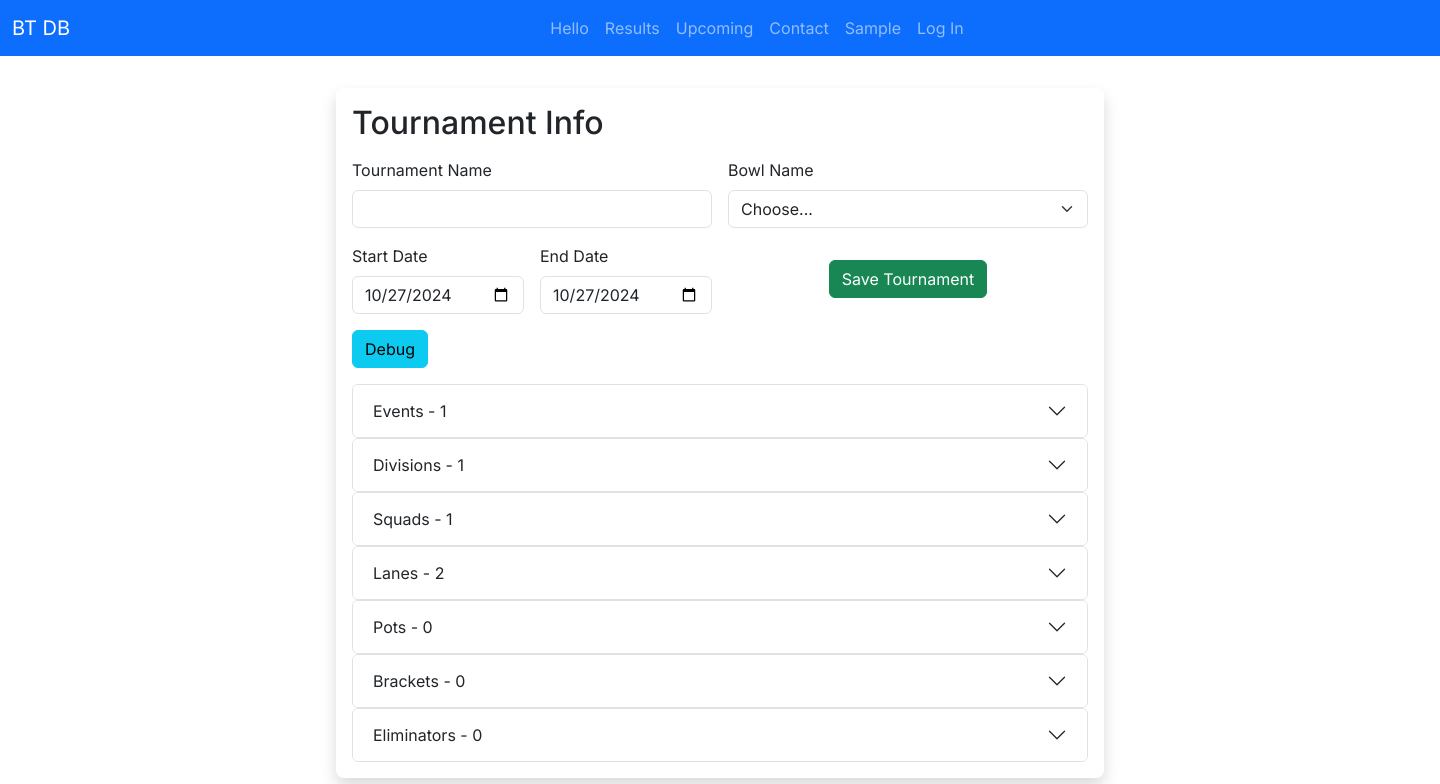
Test case: TmntDataPage - Event Component › click on the events accordian › render the event tab
Click the button "Events - 1": coordinates (406, 411) [353, 385, 1087, 437]
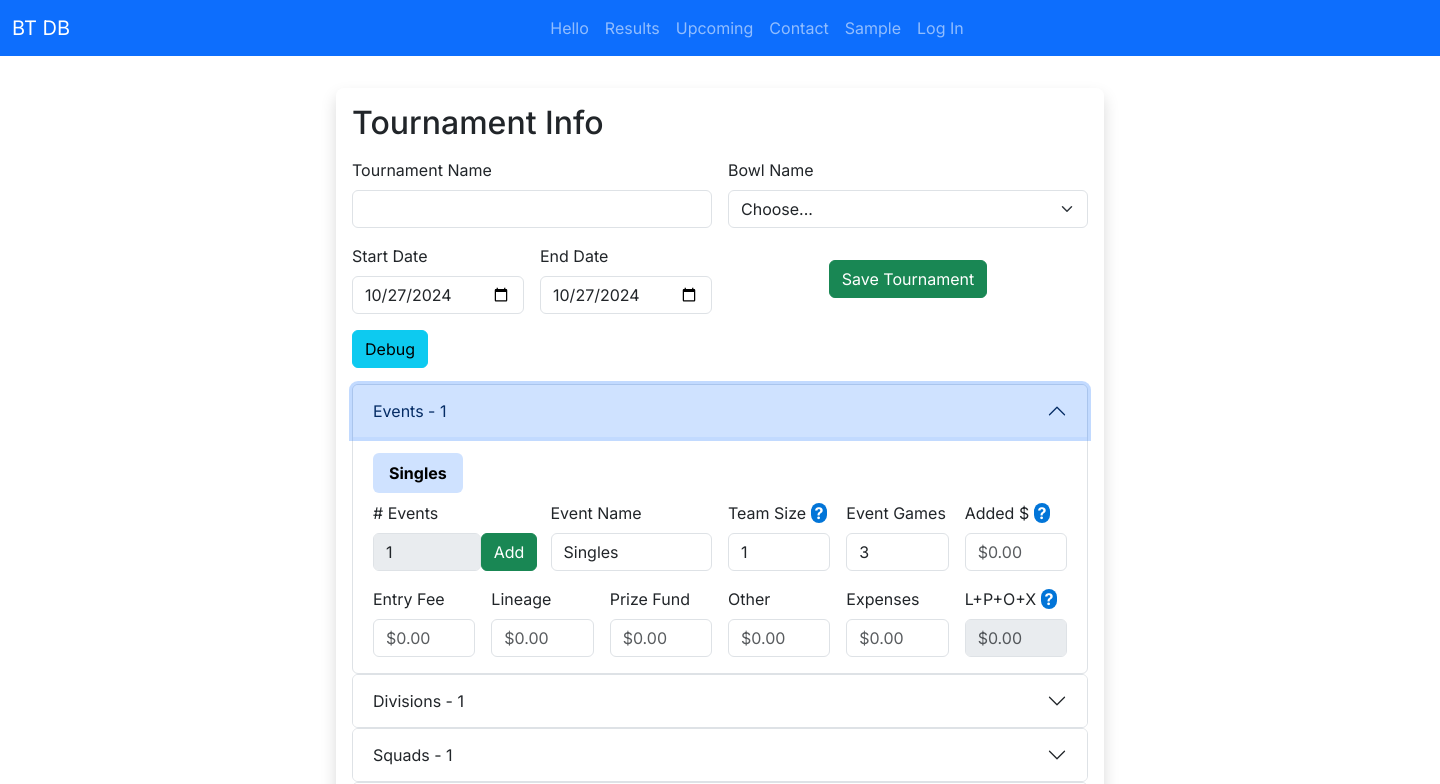
Check: the tab "Singles" is shown, box [373, 453, 463, 493]
